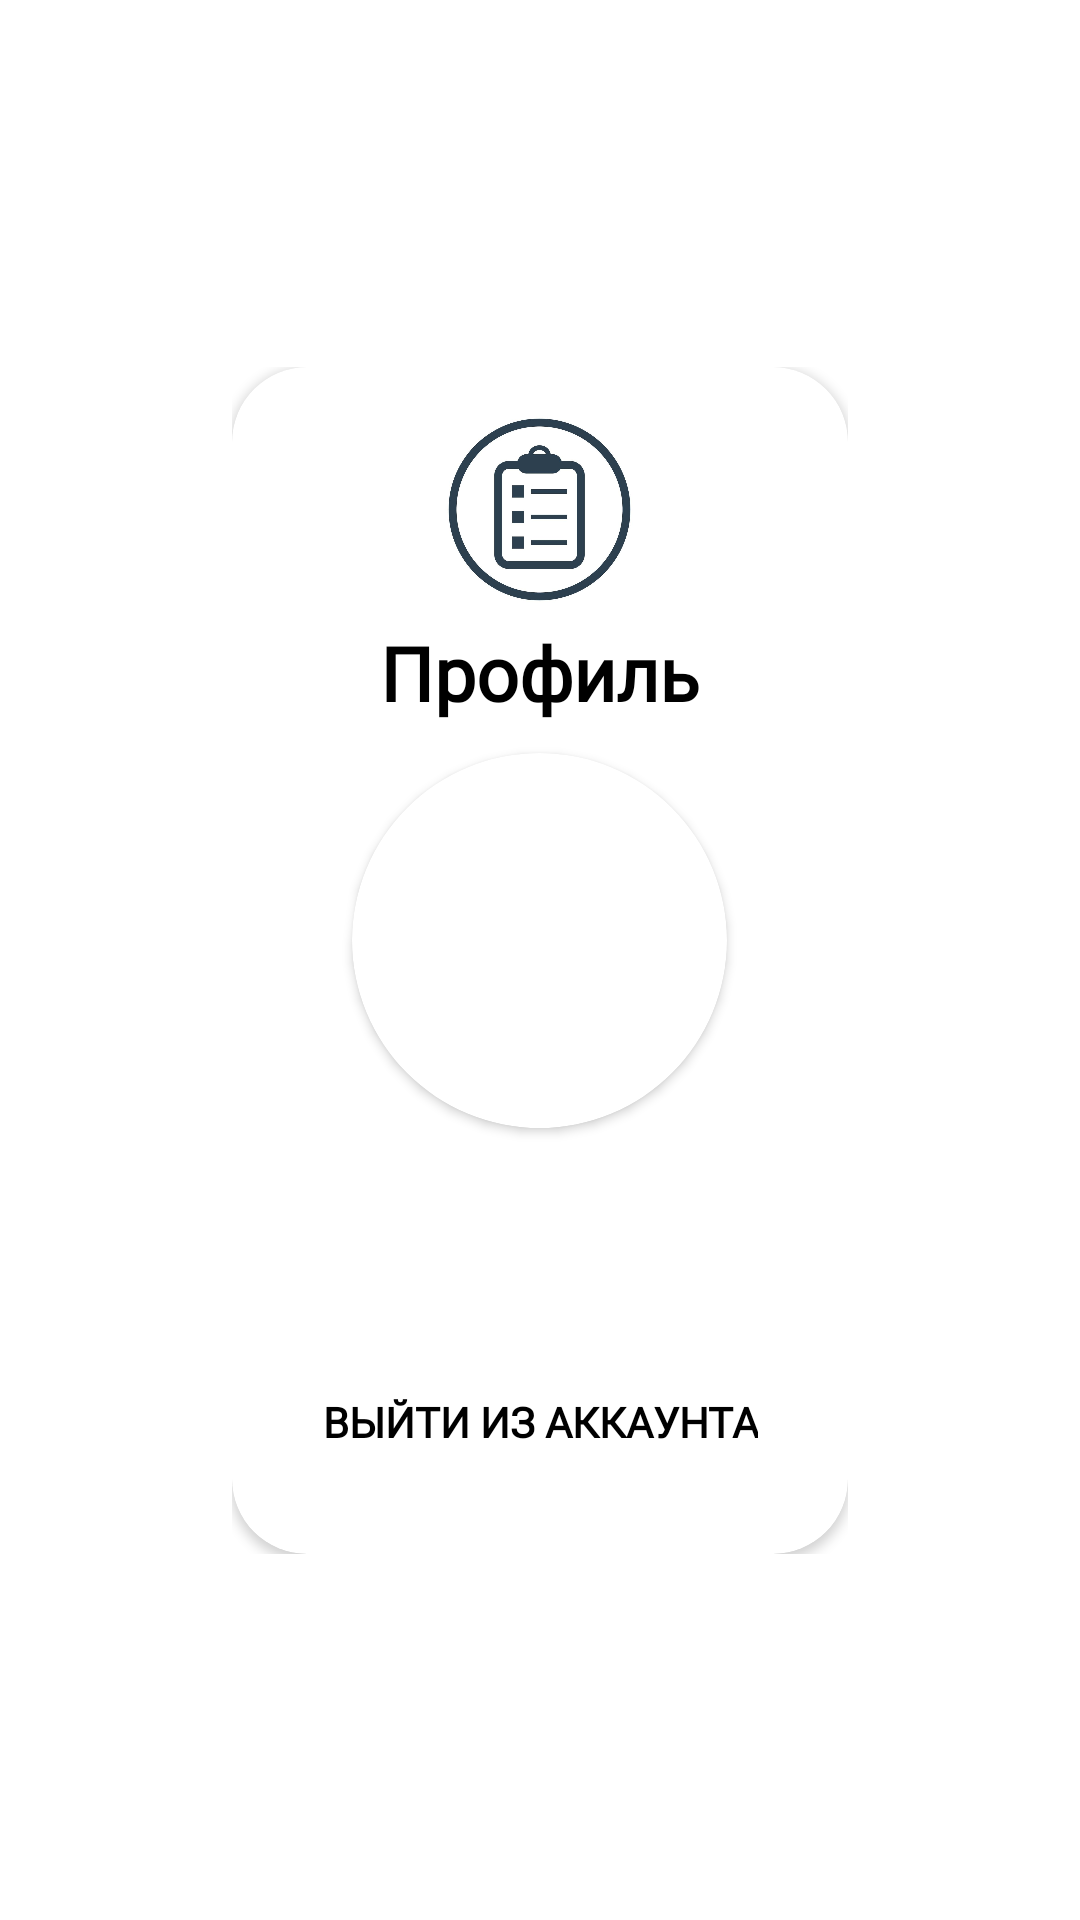

Where to tap for icons on this 1080x1920 app screen, as (x=x, y=y):
note: (x=539, y=509)
